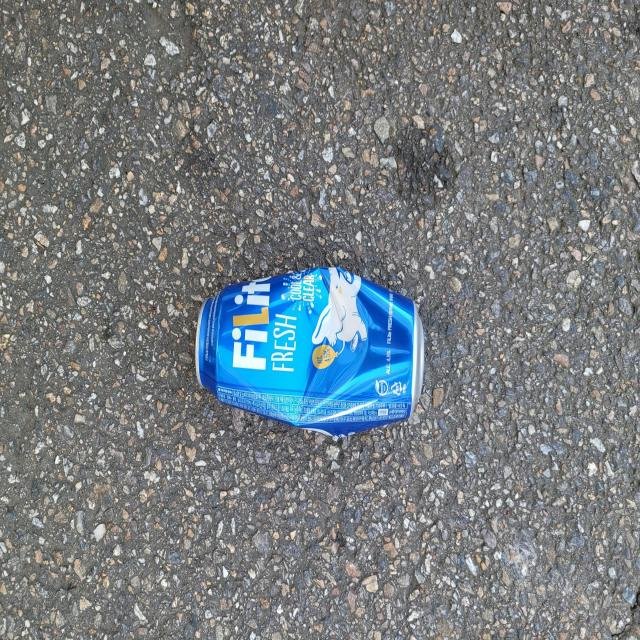can: (195, 267, 425, 436)
